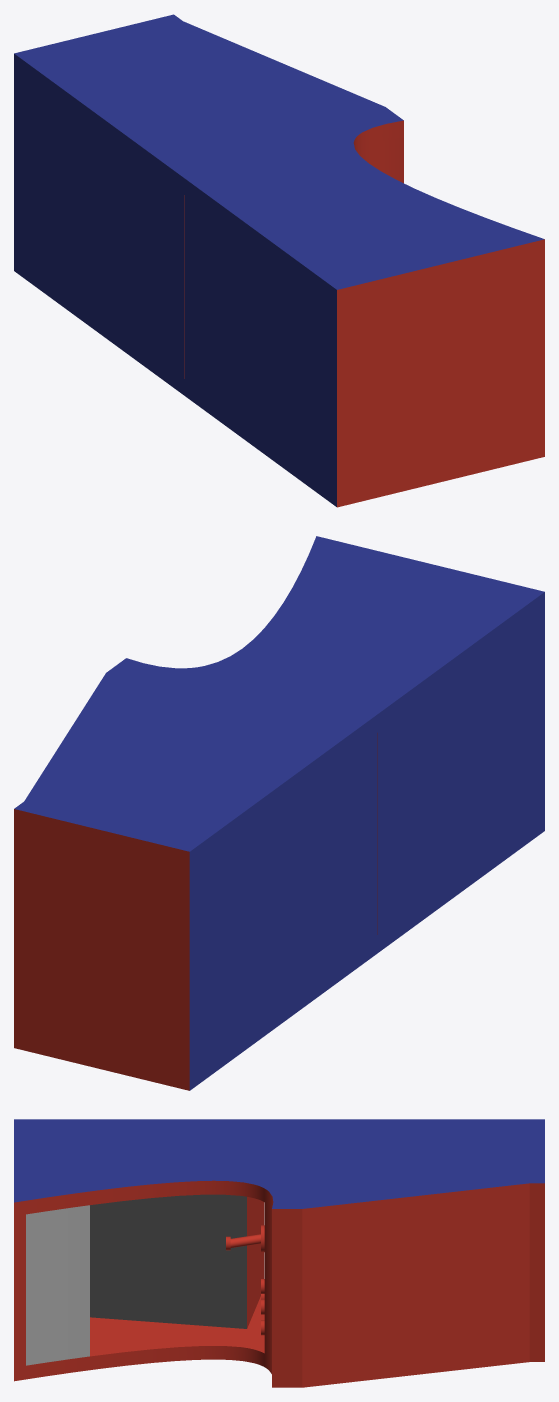
File: GameMachine.fbx
The picture shows the model from 3 angles, top to bottom: view 1: azimuth 30°, elevation 25°; view 2: azimuth 150°, elevation 25°; view 3: azimuth 270°, elevation 25°; orthographic projection. The views are drawn at different scales.
Visible parts, largest first — view 1: Body1; view 2: Body1; view 3: Body1.
Part boxes in pixels (x1,y1,x2,y2): Body1: (14, 14, 544, 507); Body1: (14, 536, 544, 1090); Body1: (14, 1119, 544, 1387).
Size of the model in its own units: 2.8 by 2.6 by 7.
